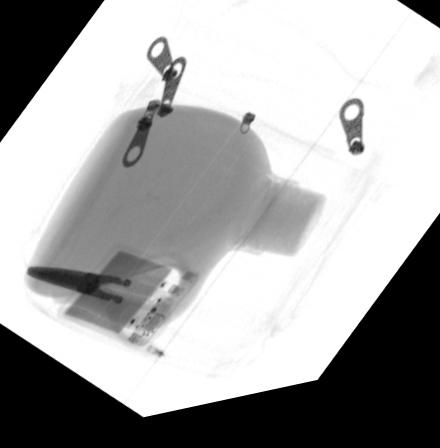Powerbank: (53, 250, 198, 354)
Scissors: (19, 257, 198, 353)
